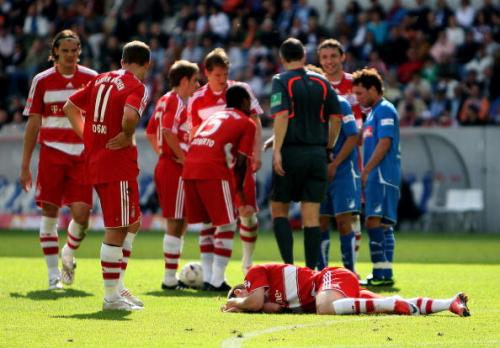10+: (1, 1, 499, 324)
down: (218, 259, 475, 320)
